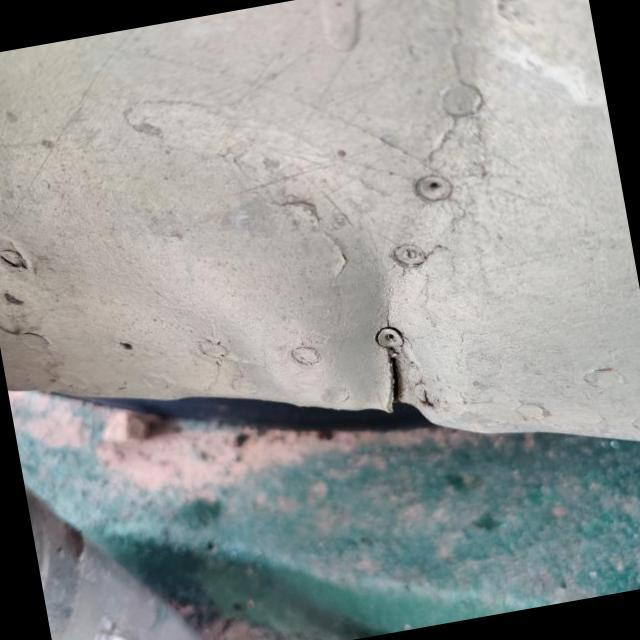Rupture: (356, 326, 432, 424)
